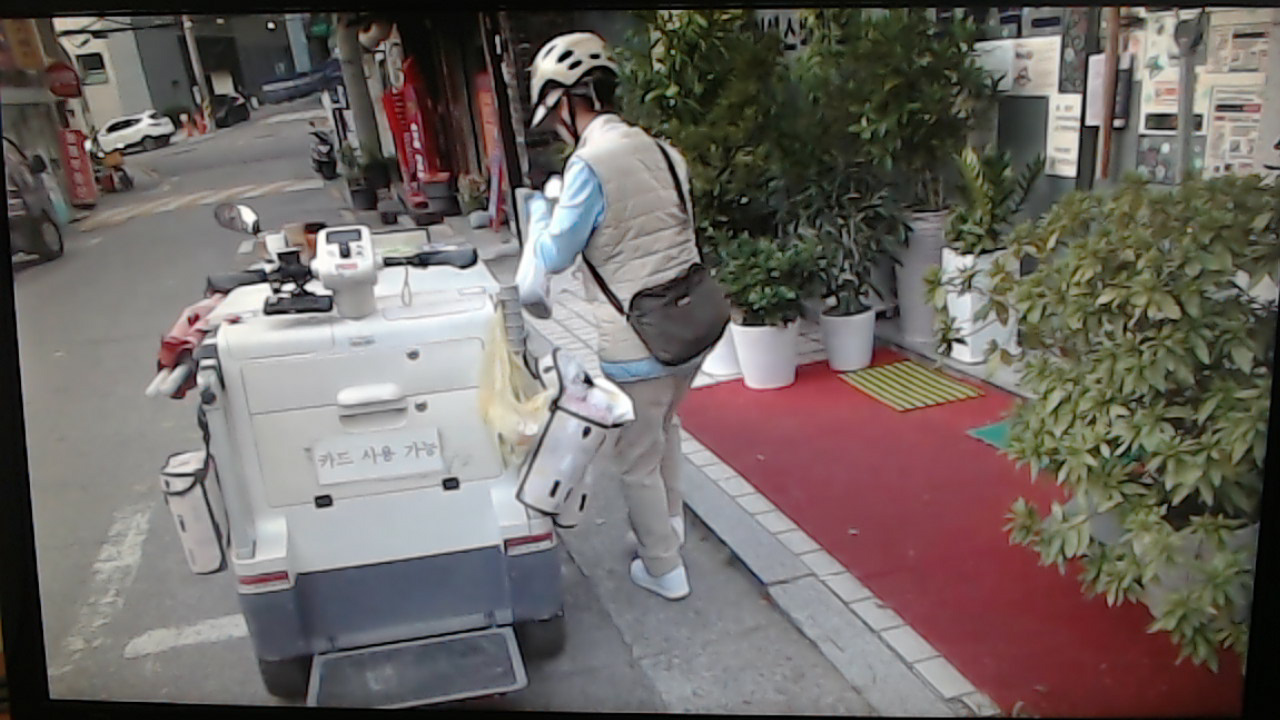Yakurut: (470, 13, 736, 657)
